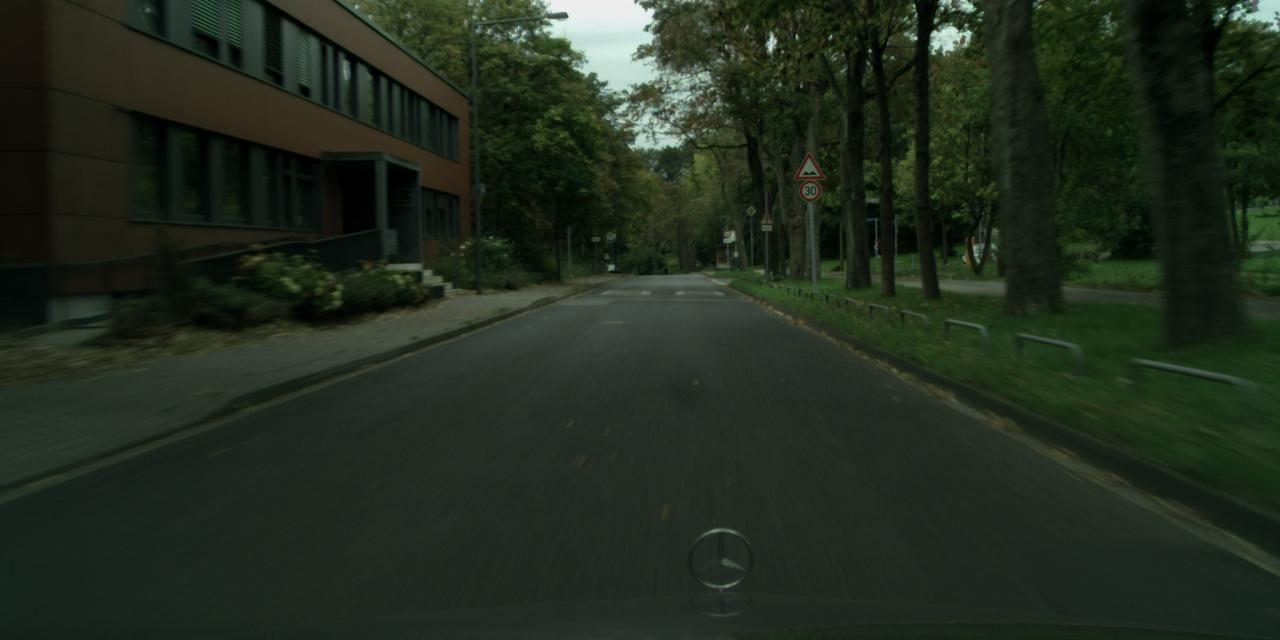ped: (710, 256, 716, 271), (878, 238, 881, 259), (696, 258, 700, 272), (663, 266, 667, 276), (873, 240, 875, 260)
